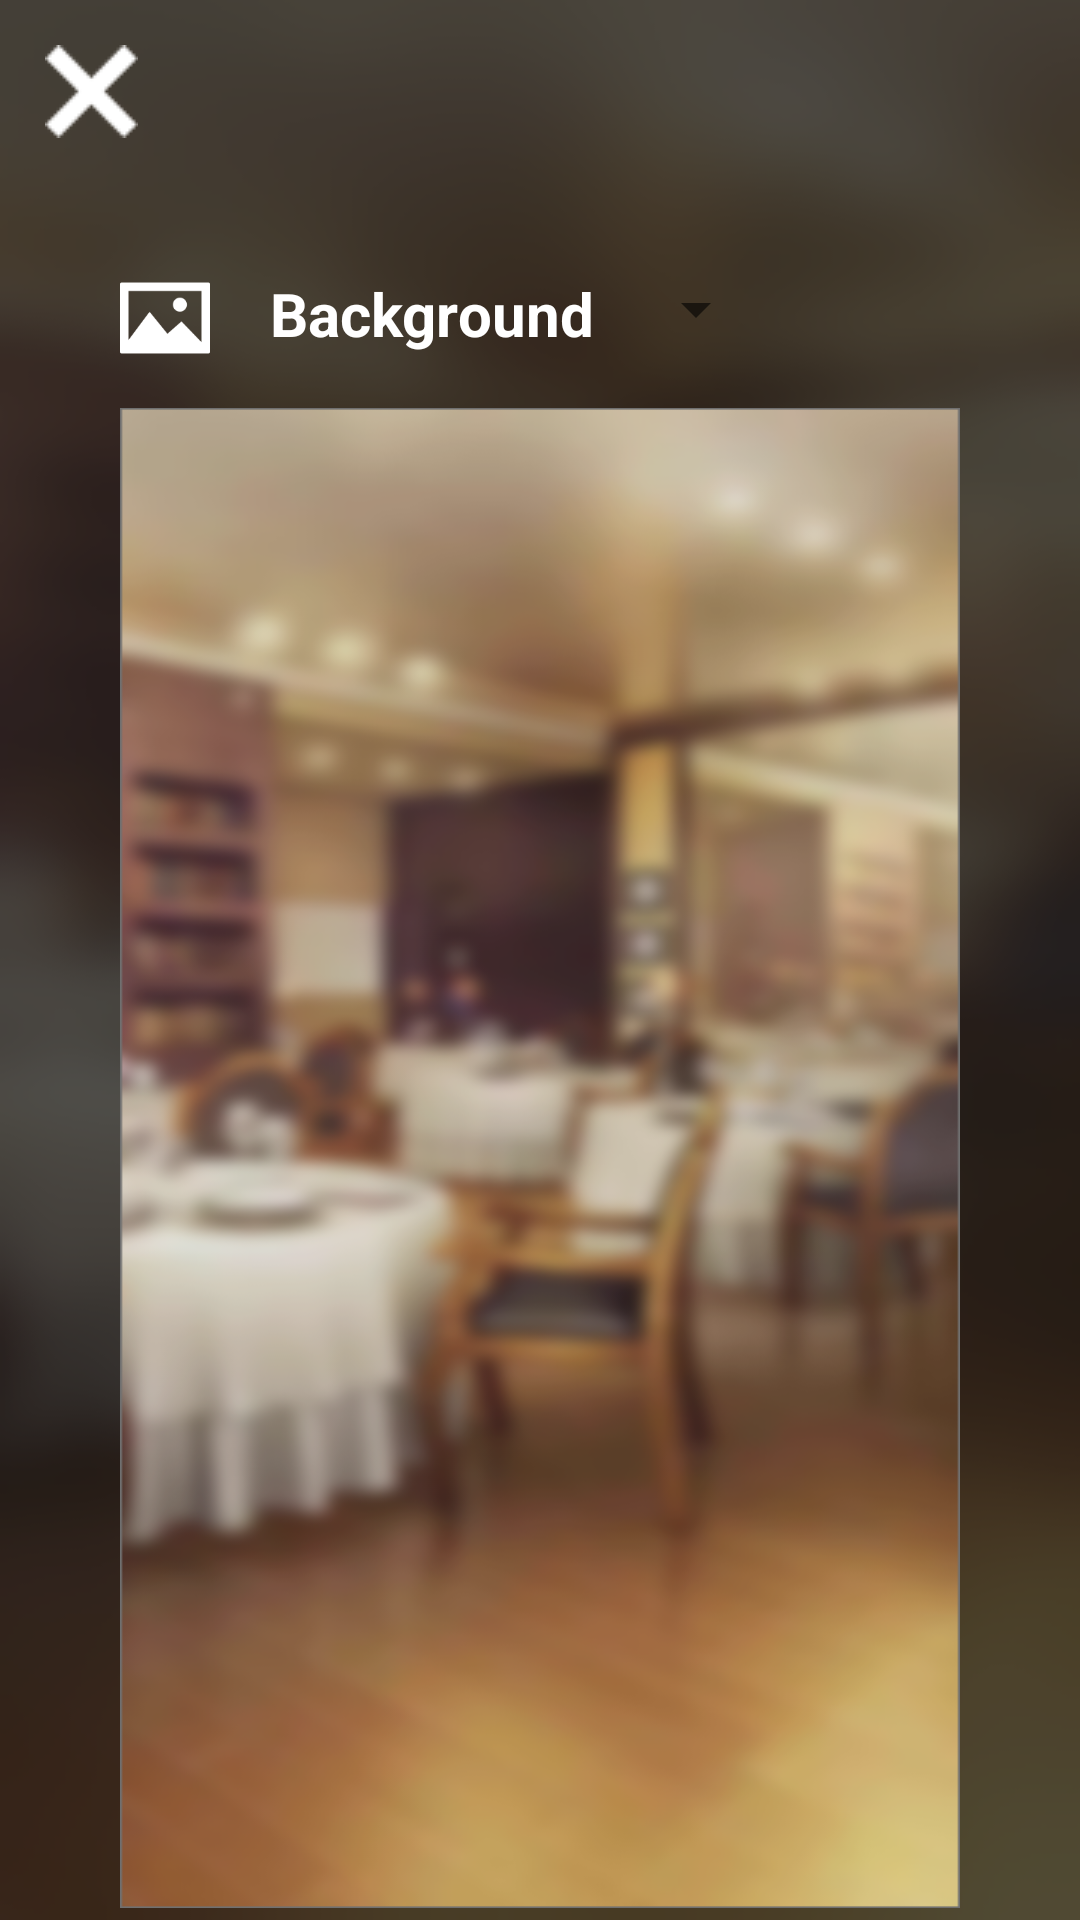

Named icons in this screenshot (1080×1920) and their centers, (x=x, y=y):
close: (x=91, y=91)
